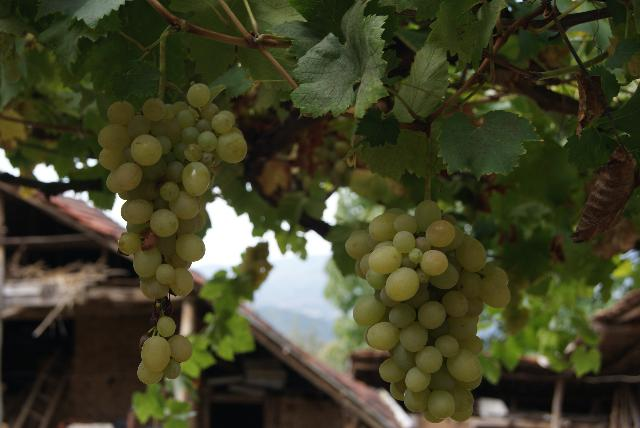grapes: (98, 84, 248, 385), (345, 200, 510, 421)
